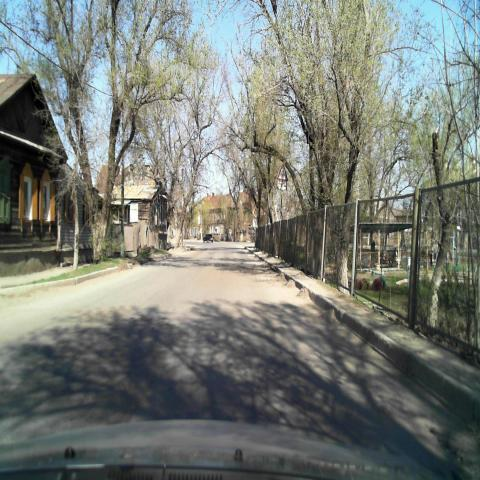1_23: (277, 163, 289, 181)
8_1_3: (277, 180, 288, 191)
